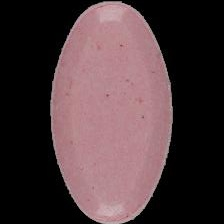49349-618: (0, 0, 224, 224)
